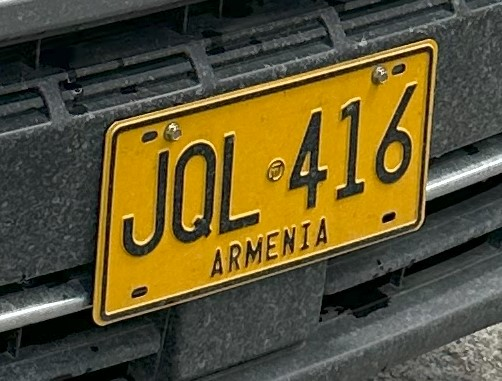number plate: (93, 39, 436, 324)
